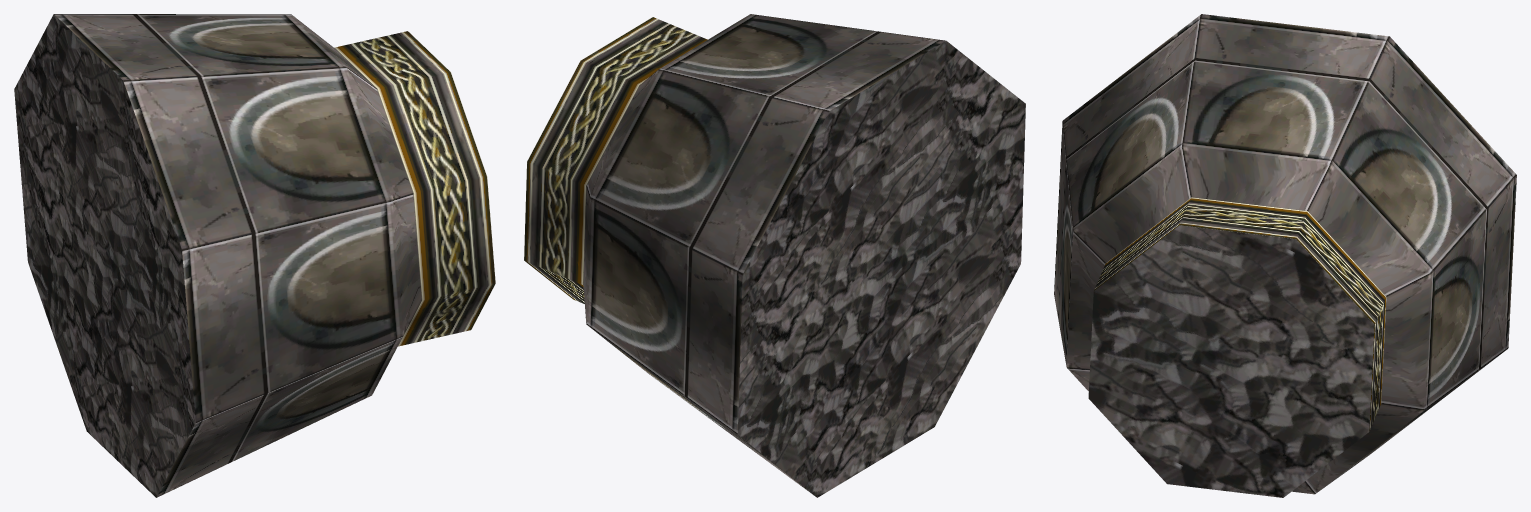
File: INST_SM_COLUMN_BROKEN_PIECEA.fbx
3 views of the same model, side by side, from view 1: azimuth 30°, elevation 25°; view 2: azimuth 150°, elevation 25°; view 3: azimuth 270°, elevation 25° (orthographic). The views are drawn at different scales.
Visible parts, largest first — view 1: INST_SM_COLUMN_BROKEN_PIECEA; view 2: INST_SM_COLUMN_BROKEN_PIECEA; view 3: INST_SM_COLUMN_BROKEN_PIECEA.
Part boxes in pixels (x1,y1,x2,y2): INST_SM_COLUMN_BROKEN_PIECEA: (14, 14, 495, 497); INST_SM_COLUMN_BROKEN_PIECEA: (524, 14, 1025, 497); INST_SM_COLUMN_BROKEN_PIECEA: (1054, 14, 1516, 497).
Size of the model in its own units: 27211 by 30206 by 30332.
3 materials, 3 textured.
